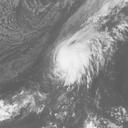cyclone: (51, 39, 99, 86)
